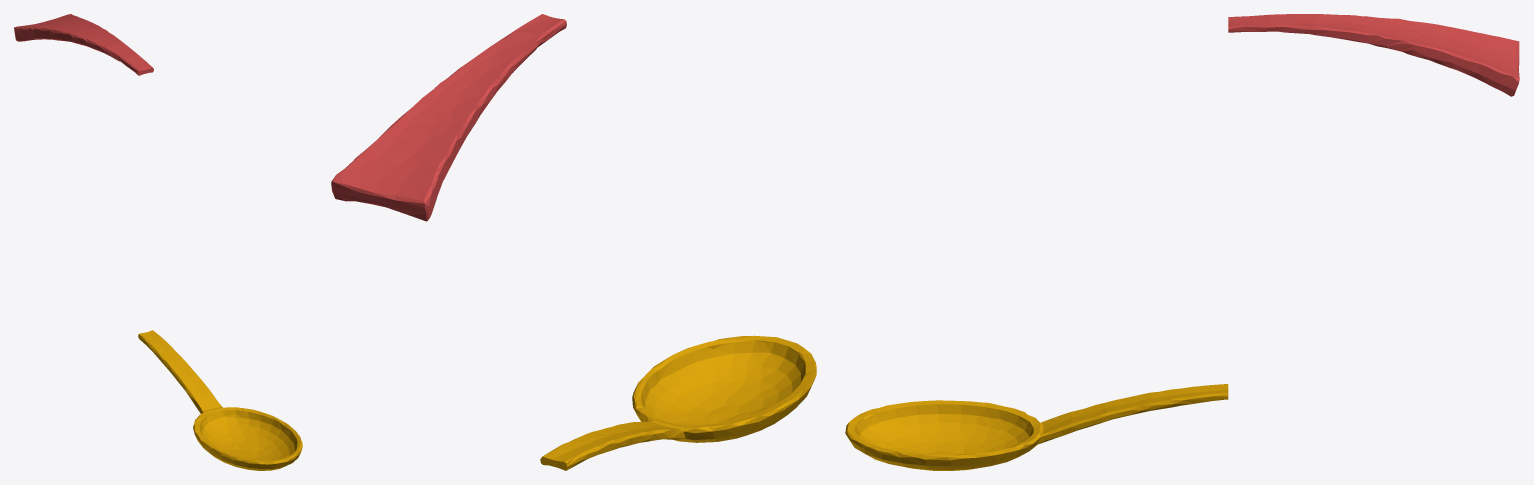
The model's file is mode_1_2pcs_transformed.glb.
3 views of the same model, side by side, from view 1: azimuth 30°, elevation 25°; view 2: azimuth 150°, elevation 25°; view 3: azimuth 270°, elevation 25° (orthographic). The views are drawn at different scales.
Parts seen in each view (by area): view 1: piece_0.obj, piece_1.obj; view 2: piece_0.obj, piece_1.obj; view 3: piece_0.obj, piece_1.obj.
Part boxes in pixels (bbox=[...]): piece_0.obj: bbox=[138, 330, 302, 470]; piece_1.obj: bbox=[14, 14, 153, 75]; piece_0.obj: bbox=[540, 335, 816, 470]; piece_1.obj: bbox=[331, 14, 566, 221]; piece_0.obj: bbox=[845, 384, 1228, 470]; piece_1.obj: bbox=[1228, 14, 1519, 96].
Size of the model in its own units: 0.1994 by 0.7195 by 1.
